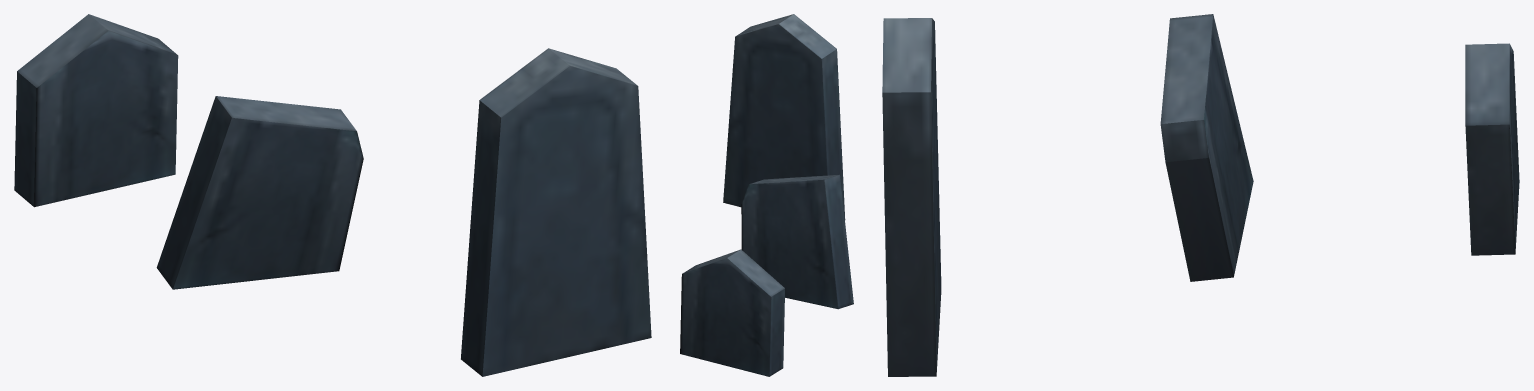
The model's file is Area_04_49.fbx.
The picture shows the model from 3 angles, left to right: view 1: azimuth 30°, elevation 25°; view 2: azimuth 150°, elevation 25°; view 3: azimuth 270°, elevation 25°; orthographic projection. The views are drawn at different scales.
Visible parts, largest first — view 1: Area_04_49; view 2: Area_04_49; view 3: Area_04_49.
Part boxes in pixels (x1,y1,x2,y2): Area_04_49: (14,14,651,376); Area_04_49: (680,14,853,376); Area_04_49: (882,14,1519,376).
Size of the model in its own units: 513 by 420 by 768.
